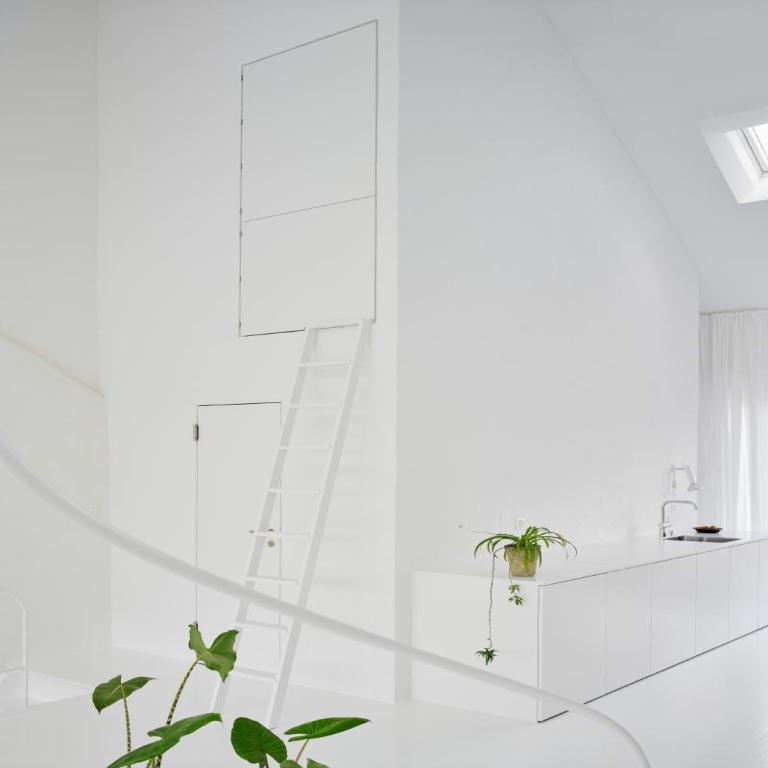white-walls: (469, 23, 682, 500)
